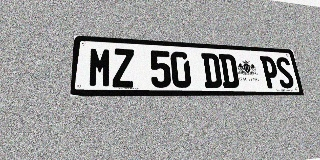0: (170, 51, 192, 88)
5: (150, 50, 172, 88)
D: (201, 53, 223, 88), (218, 54, 240, 88)
M: (88, 47, 112, 87)
P: (260, 56, 281, 88)
S: (274, 57, 295, 88)
Z: (112, 48, 135, 88)
